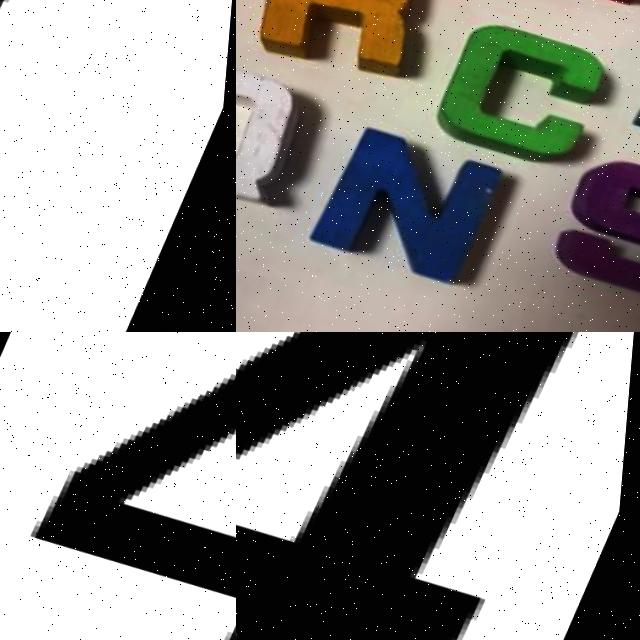C: (428, 12, 630, 186)
N: (317, 120, 529, 299)
Q: (236, 38, 326, 220)
R: (241, 0, 445, 92)
S: (547, 149, 640, 325)
